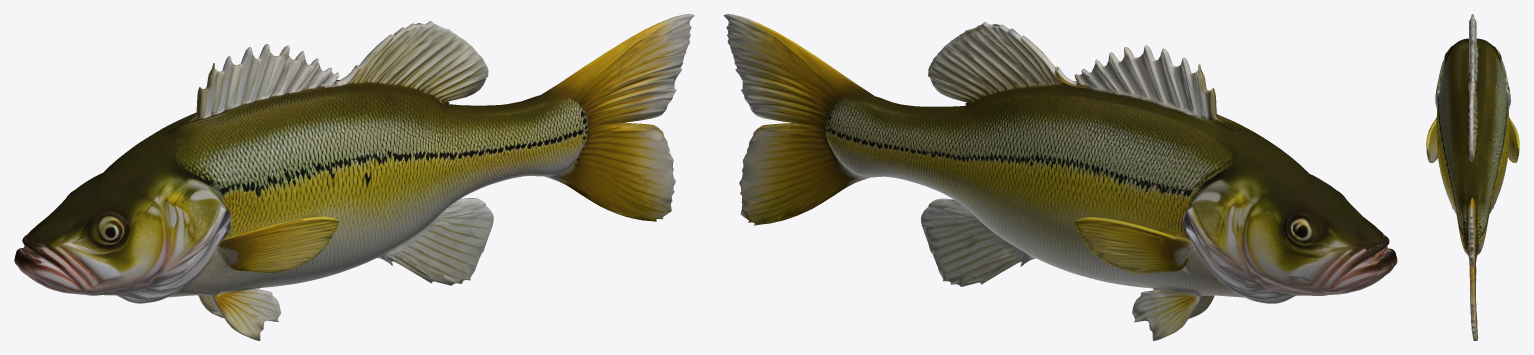
File: largemouth-bass.glb
The picture shows the model from 3 angles, left to right: view 1: azimuth 30°, elevation 25°; view 2: azimuth 150°, elevation 25°; view 3: azimuth 270°, elevation 25°; orthographic projection. The views are drawn at different scales.
Parts seen in each view (by area): view 1: material; view 2: material; view 3: material.
Boxes of the visible parts, x1,y1,x2,y2 form: material: [14, 14, 694, 340]; material: [723, 14, 1397, 340]; material: [1426, 14, 1519, 340].
Size of the model in its own units: 1.18 by 0.4801 by 0.2107.
1 material, 1 textured.
